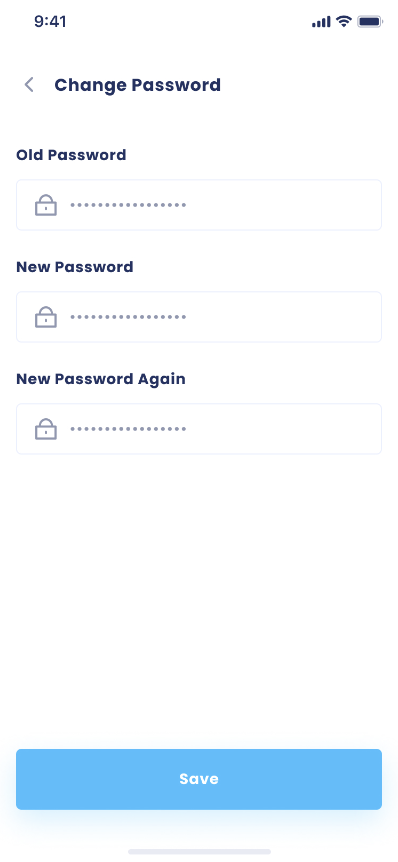Button: (12, 746, 384, 812)
